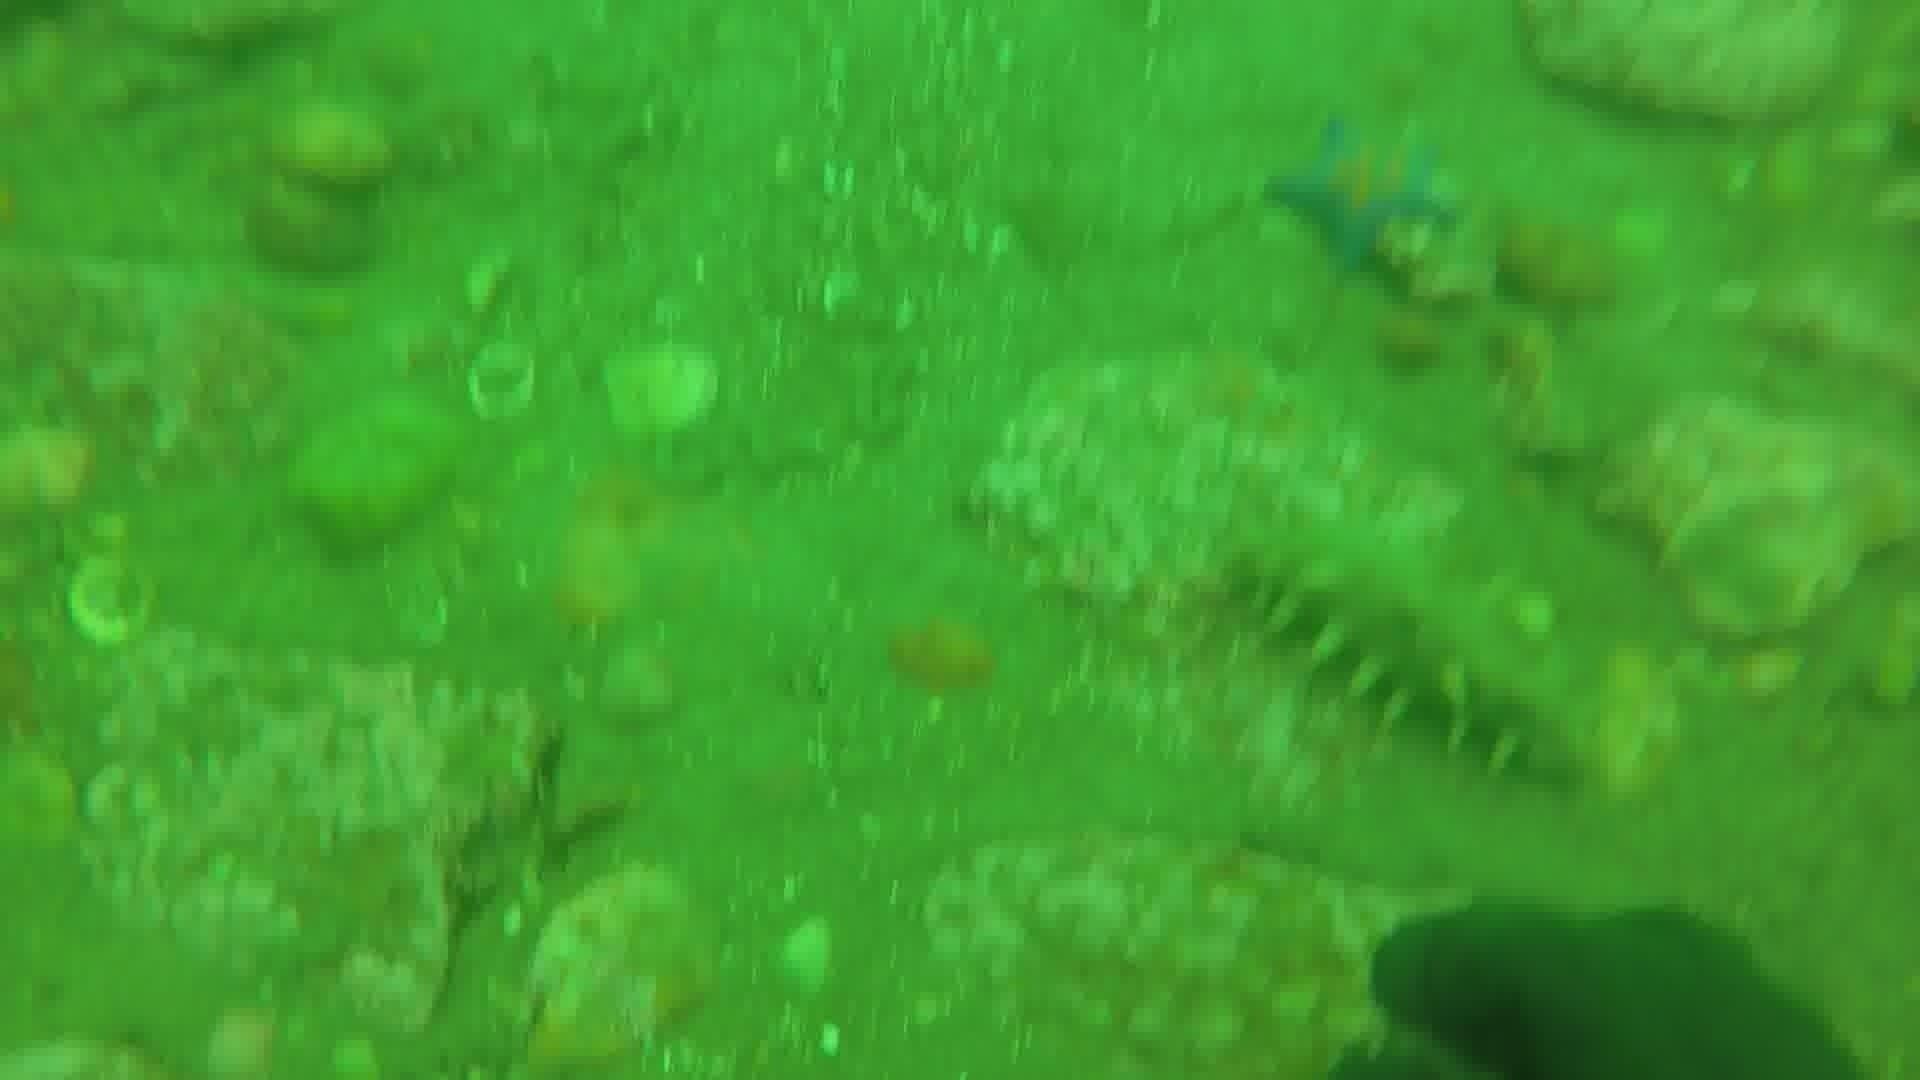holothurian: (1213, 501, 1588, 790)
starfish: (1262, 109, 1460, 274)
